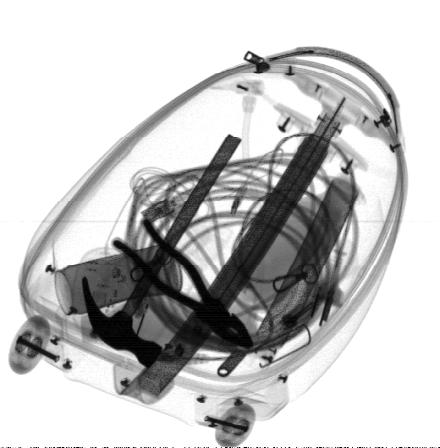Hammer: (82, 133, 242, 370)
Pliers: (112, 215, 256, 348)
